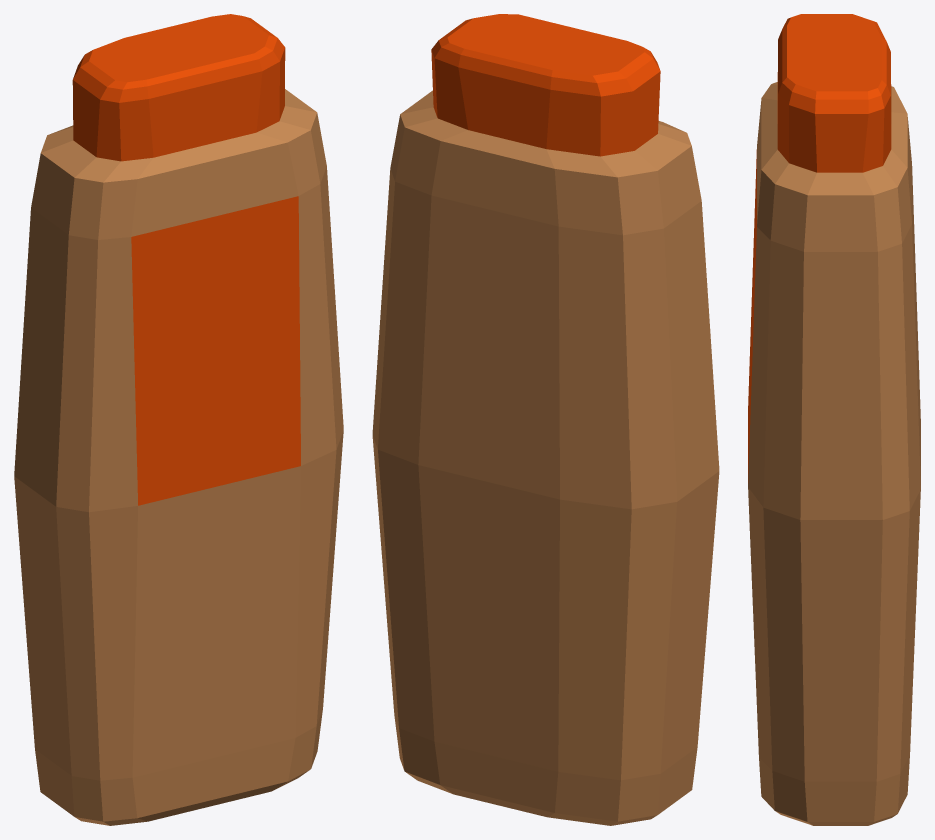
The model's file is Ma_Shampoo_3.fbx.
The picture shows the model from 3 angles, left to right: view 1: azimuth 30°, elevation 25°; view 2: azimuth 150°, elevation 25°; view 3: azimuth 270°, elevation 25°; orthographic projection. The views are drawn at different scales.
Parts seen in each view (by area): view 1: Ma_Shampoo_3; view 2: Ma_Shampoo_3; view 3: Ma_Shampoo_3.
Part boxes in pixels (x1,y1,x2,y2): Ma_Shampoo_3: (14, 14, 343, 825); Ma_Shampoo_3: (372, 14, 719, 825); Ma_Shampoo_3: (748, 14, 920, 825).
Size of the model in its own units: 86.61 by 44.83 by 206.
